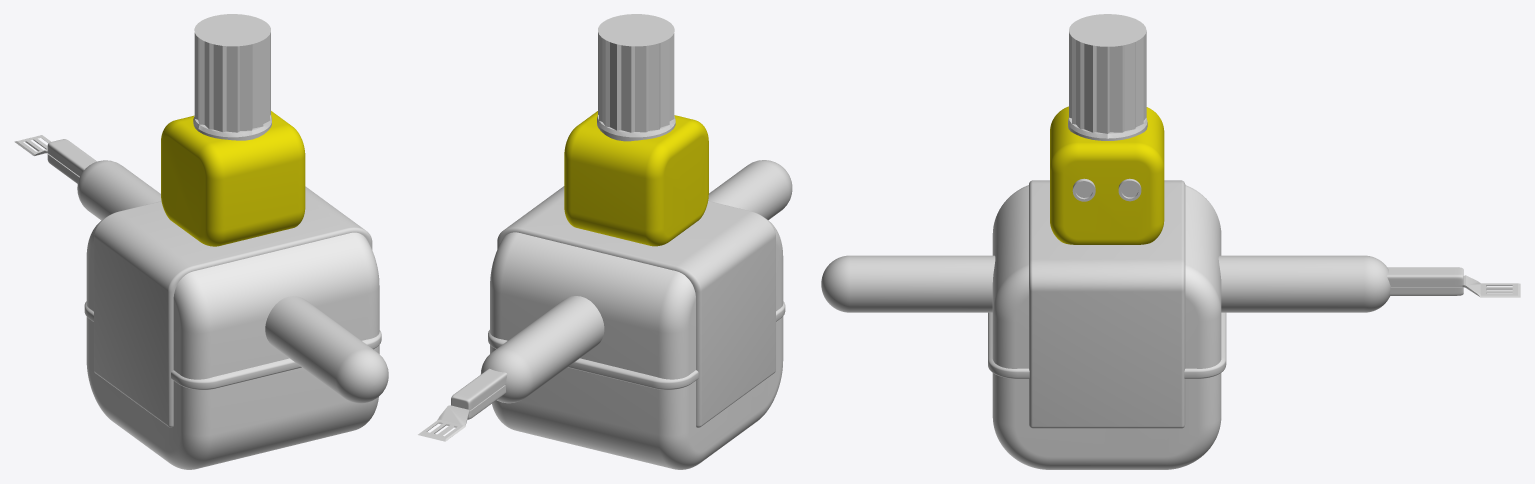
The model's file is Robo_cuisto.fbx.
3 views of the same model, side by side, from view 1: azimuth 30°, elevation 25°; view 2: azimuth 150°, elevation 25°; view 3: azimuth 270°, elevation 25° (orthographic).
Visible parts, largest first — view 1: Cube, apron, Head, Toque, Cylinder.001, Cylinder, Cube.001; view 2: Cube, apron, Head, Toque, Cylinder, Cylinder.001, Cube.001; view 3: apron, Cube, Head, Cylinder.001, Cylinder, Toque, Cube.001, Eyes.
Boxes of the visible parts, <box> form: Cube: <box>86,219,379,469</box>; apron: <box>84,186,381,427</box>; Head: <box>161,111,305,246</box>; Toque: <box>193,14,271,140</box>; Cylinder.001: <box>265,296,388,403</box>; Cylinder: <box>77,160,161,220</box>; Cube.001: <box>14,135,96,183</box>; Cube: <box>490,219,783,469</box>; apron: <box>488,186,785,427</box>; Head: <box>564,111,708,246</box>; Toque: <box>597,14,675,141</box>; Cylinder: <box>480,296,604,403</box>; Cylinder.001: <box>708,160,792,219</box>; Cube.001: <box>418,368,507,441</box>; apron: <box>988,180,1226,428</box>; Cube: <box>992,185,1221,469</box>; Head: <box>1050,106,1164,244</box>; Cylinder.001: <box>821,255,995,312</box>; Cylinder: <box>1218,255,1390,312</box>; Toque: <box>1068,14,1147,140</box>; Cube.001: <box>1387,267,1520,297</box>; Eyes: <box>1072,178,1141,201</box>.
Bounding box in the file's own units: 208 × 385 × 612.
